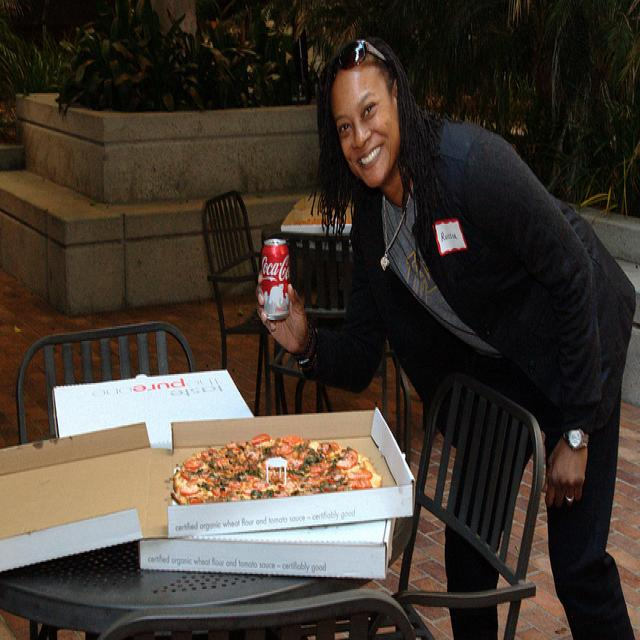chair: (390, 372, 543, 640), (16, 321, 195, 446), (202, 189, 278, 418), (104, 585, 422, 632), (260, 232, 357, 317)
dining table: (4, 551, 372, 620)
